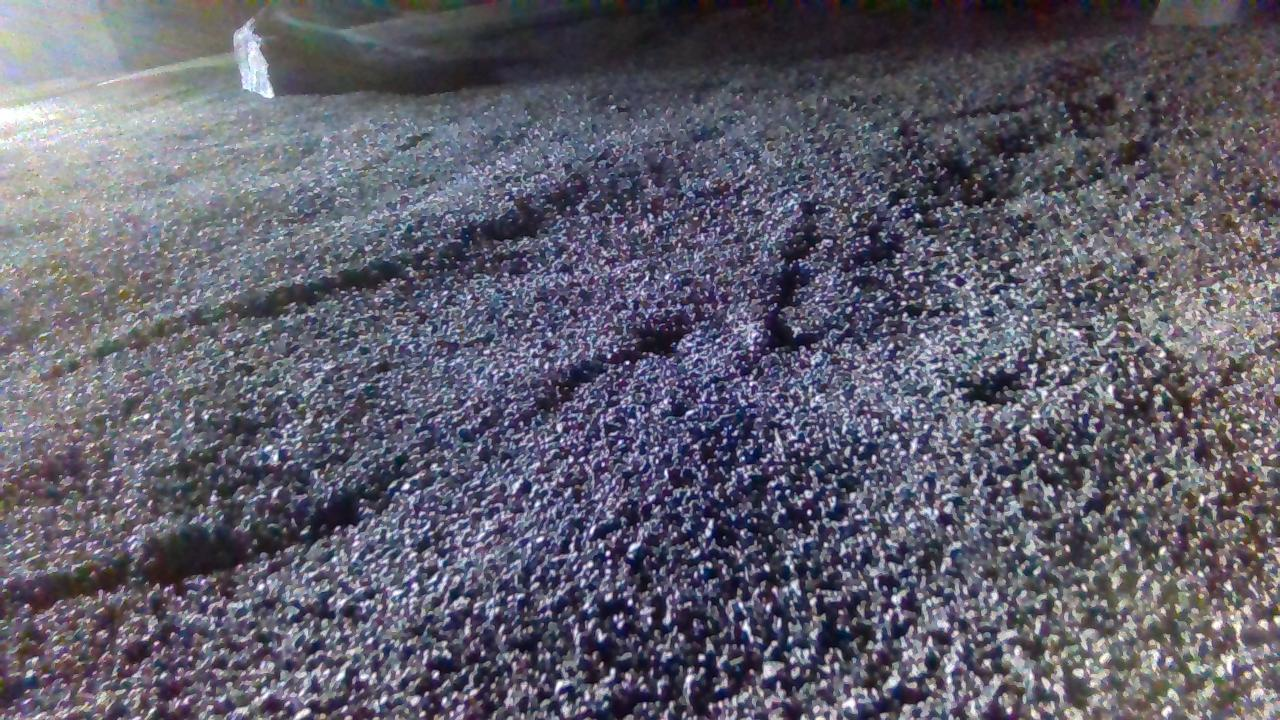rock: (235, 12, 368, 95), (1153, 0, 1280, 24)
